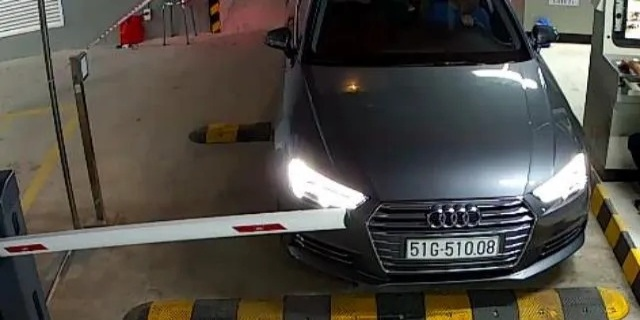bien_so: (407, 237, 497, 258)
